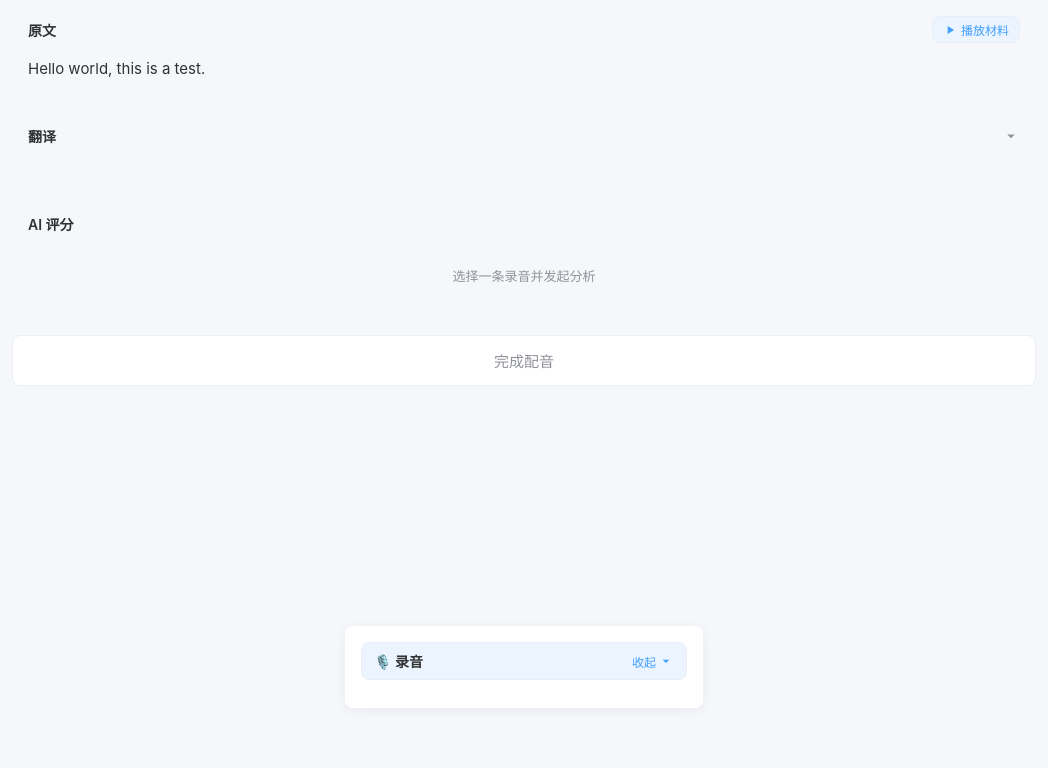
Test: DubbingPractice 配音练习组件 › 无翻译时显示暂无翻译
Step 1. Click the element with class "card__header--clickable" → (42, 136), box [28,126,1020,146]
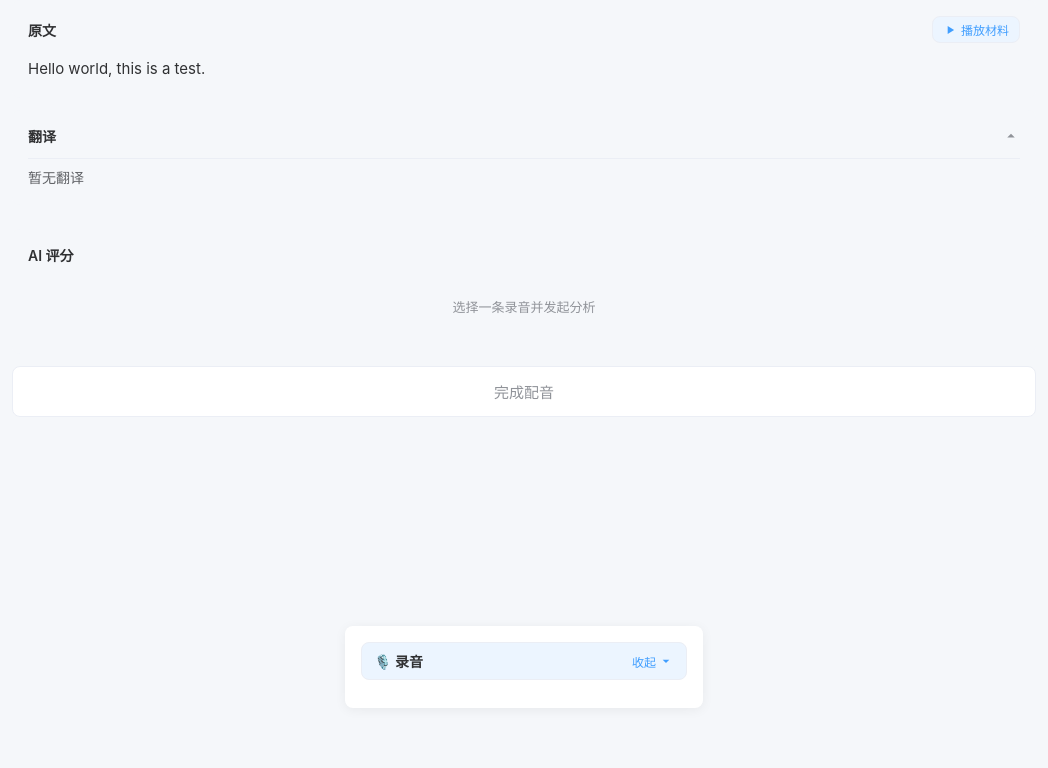
Result: the text with class "translation-content" reads "暂无翻译" at [28,169,84,186]
